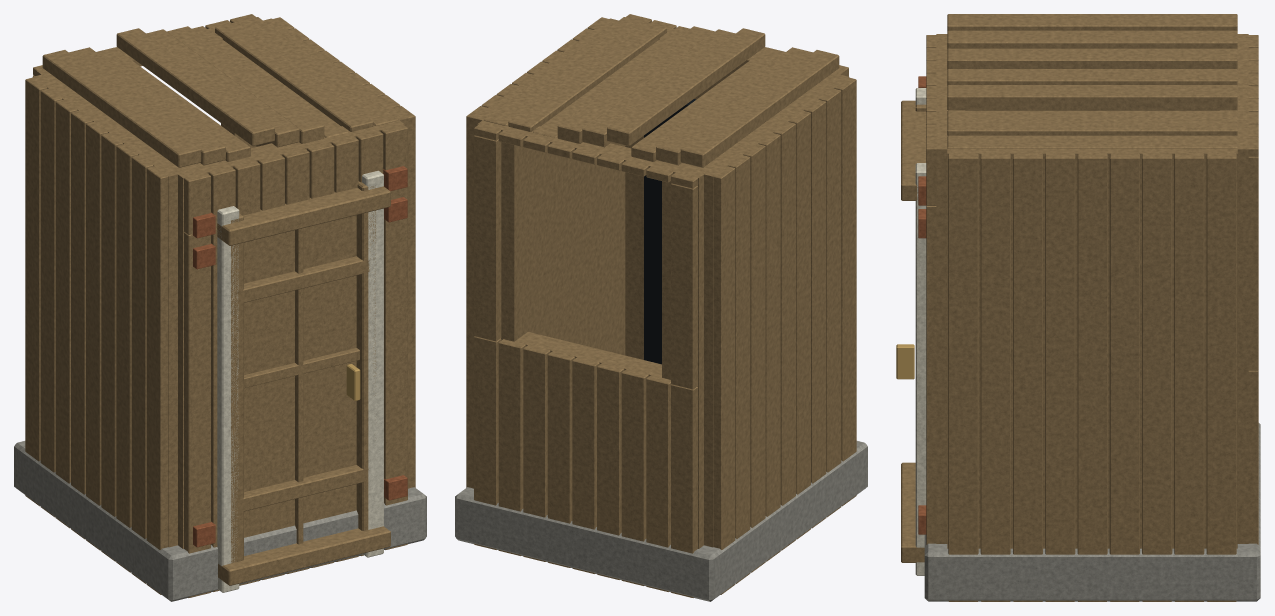
The model's file is PHONSHK2_lod0.glb.
3 views of the same model, side by side, from view 1: azimuth 30°, elevation 25°; view 2: azimuth 150°, elevation 25°; view 3: azimuth 270°, elevation 25° (orthographic). The views are drawn at different scales.
Visible parts, largest first — view 1: PHONSHK2_LOD0; view 2: PHONSHK2_LOD0; view 3: PHONSHK2_LOD0.
Part boxes in pixels (bbox=[...]): PHONSHK2_LOD0: bbox=[14, 14, 426, 601]; PHONSHK2_LOD0: bbox=[455, 14, 867, 601]; PHONSHK2_LOD0: bbox=[896, 14, 1260, 601].
Bounding box in the file's own units: 1.75 × 2.85 × 2.
10 materials, 7 textured.
